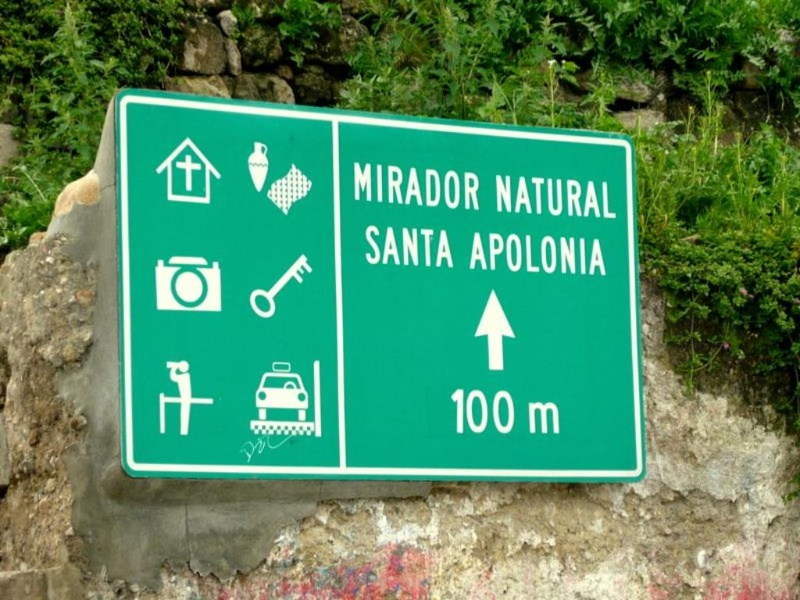straight_direction: (469, 281, 519, 380)
